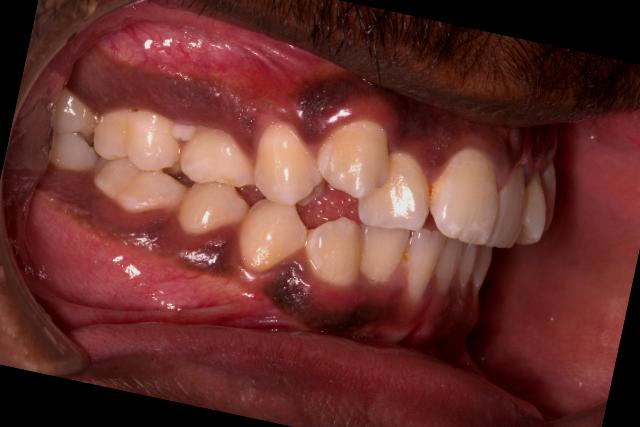canine class II 3/4: (233, 99, 402, 302)
molar class I: (74, 90, 205, 227)
